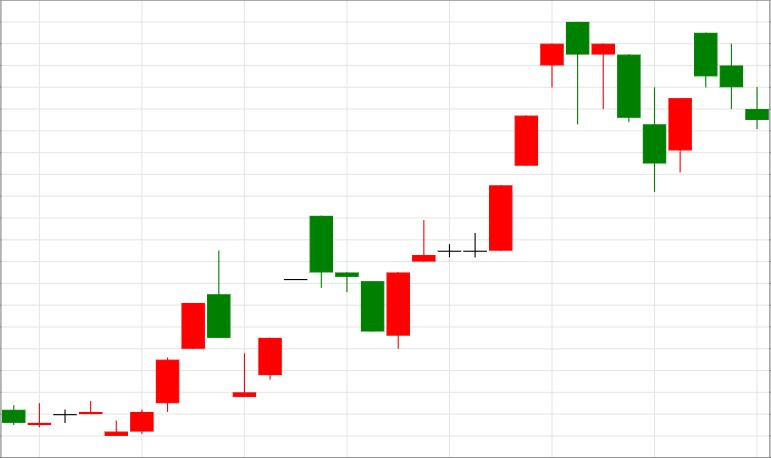hanging_man_fall: (386, 22, 589, 349)
